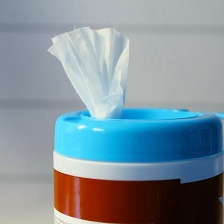plastic_box: (44, 102, 224, 223)
tissue: (41, 22, 133, 123)
